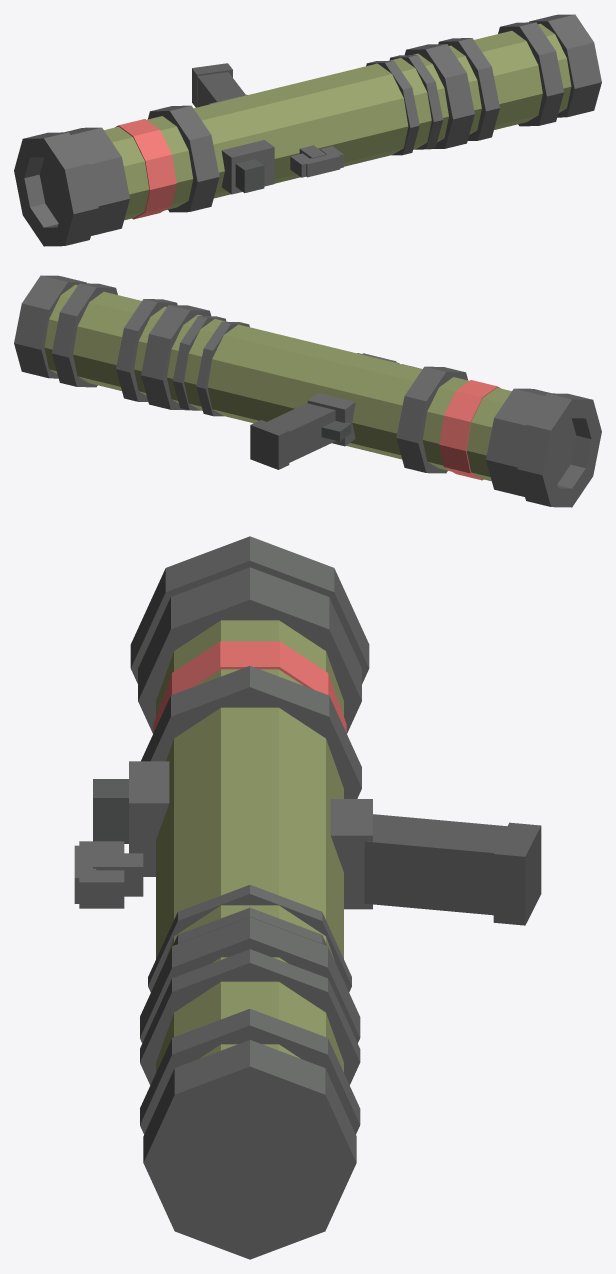
The model's file is rocket_launcher.glb.
The picture shows the model from 3 angles, top to bottom: view 1: azimuth 30°, elevation 25°; view 2: azimuth 150°, elevation 25°; view 3: azimuth 270°, elevation 25°; orthographic projection. The views are drawn at different scales.
Visible parts, largest first — view 1: Olive_Tube, Front_Muzzle_Ring, Front_Collar, Rear_Endcap, Front_Band, Rear_Band_A, Red_Band, Rear_Collar, Rear_Band_B, Upper_Mount, Clamp_0.95, Clamp_1.25 (+5 smaller); view 2: Olive_Tube, Front_Muzzle_Ring, Front_Collar, Rear_Endcap, Front_Band, Rear_Band_A, Red_Band, Rear_Collar, Pistol_Grip, Rear_Band_B, Grip_Base, Clamp_0.95 (+3 smaller); view 3: Olive_Tube, Rear_Endcap, Front_Collar, Pistol_Grip, Front_Band, Front_Muzzle_Ring, Rear_Band_B, Rear_Band_A, Rear_Collar, Red_Band, Grip_Base, Upper_Mount (+6 smaller).
Boxes of the visible parts, left/top/right/bottom form: Olive_Tube: left=104, top=23, right=571, bottom=220; Front_Muzzle_Ring: left=14, top=132, right=98, bottom=246; Front_Collar: left=39, top=127, right=129, bottom=235; Rear_Endcap: left=529, top=14, right=601, bottom=117; Front_Band: left=147, top=105, right=219, bottom=212; Rear_Band_A: left=404, top=44, right=474, bottom=149; Red_Band: left=115, top=119, right=176, bottom=219; Rear_Collar: left=498, top=22, right=563, bottom=126; Rear_Band_B: left=438, top=38, right=499, bottom=140; Upper_Mount: left=221, top=140, right=274, bottom=194; Clamp_0.95: left=366, top=60, right=419, bottom=155; Clamp_1.25: left=389, top=55, right=442, bottom=149; Olive_Tube: left=44, top=284, right=511, bottom=481; Front_Muzzle_Ring: left=517, top=393, right=601, bottom=507; Front_Collar: left=486, top=388, right=576, bottom=496; Rear_Endcap: left=14, top=275, right=86, bottom=378; Front_Band: left=396, top=366, right=468, bottom=473; Rear_Band_A: left=141, top=305, right=211, bottom=410; Red_Band: left=439, top=380, right=500, bottom=480; Rear_Collar: left=52, top=283, right=117, bottom=387; Pistol_Grip: left=267, top=403, right=335, bottom=462; Rear_Band_B: left=116, top=299, right=177, bottom=401; Grip_Base: left=250, top=420, right=289, bottom=469; Clamp_0.95: left=196, top=321, right=249, bottom=416; Olive_Tube: left=156, top=620, right=343, bottom=1072; Rear_Endcap: left=143, top=1040, right=356, bottom=1259; Front_Collar: left=138, top=567, right=361, bottom=733; Pistol_Grip: left=364, top=814, right=507, bottom=915; Front_Band: left=141, top=666, right=361, bottom=798; Front_Muzzle_Ring: left=130, top=536, right=369, bottom=683; Rear_Band_B: left=140, top=949, right=360, bottom=1085; Rear_Band_A: left=140, top=917, right=360, bottom=1043; Rear_Collar: left=140, top=1009, right=360, bottom=1134; Red_Band: left=153, top=641, right=346, bottom=732; Grip_Base: left=493, top=822, right=541, bottom=925; Upper_Mount: left=129, top=761, right=169, bottom=876.
Bounding box in the file's own units: 1.65 × 0.3205 × 0.6269.
